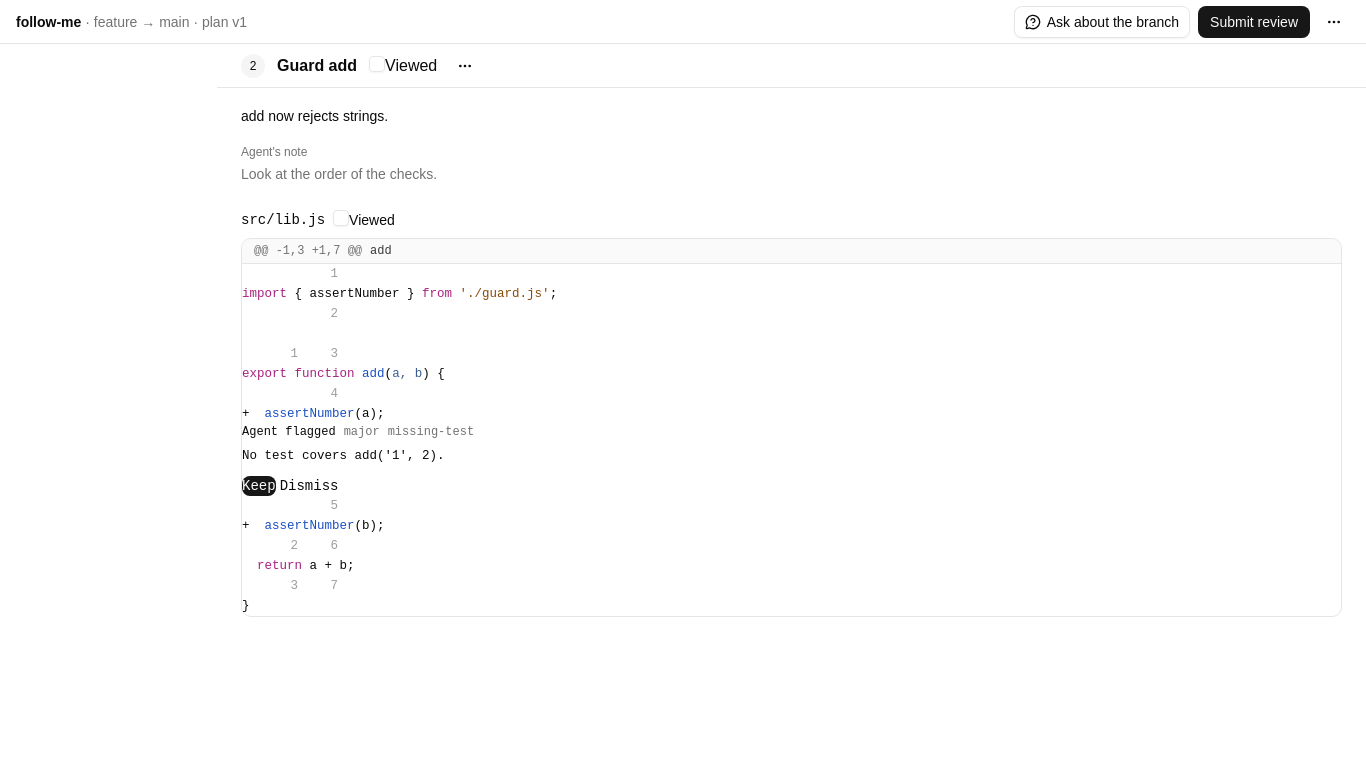
a concern sits under its line; Keep with a new severity records both, Dismiss folds it
(page scrolled)
Click the button with aria-label "Severity major". click: (362, 432)
box: [344,424,380,440]
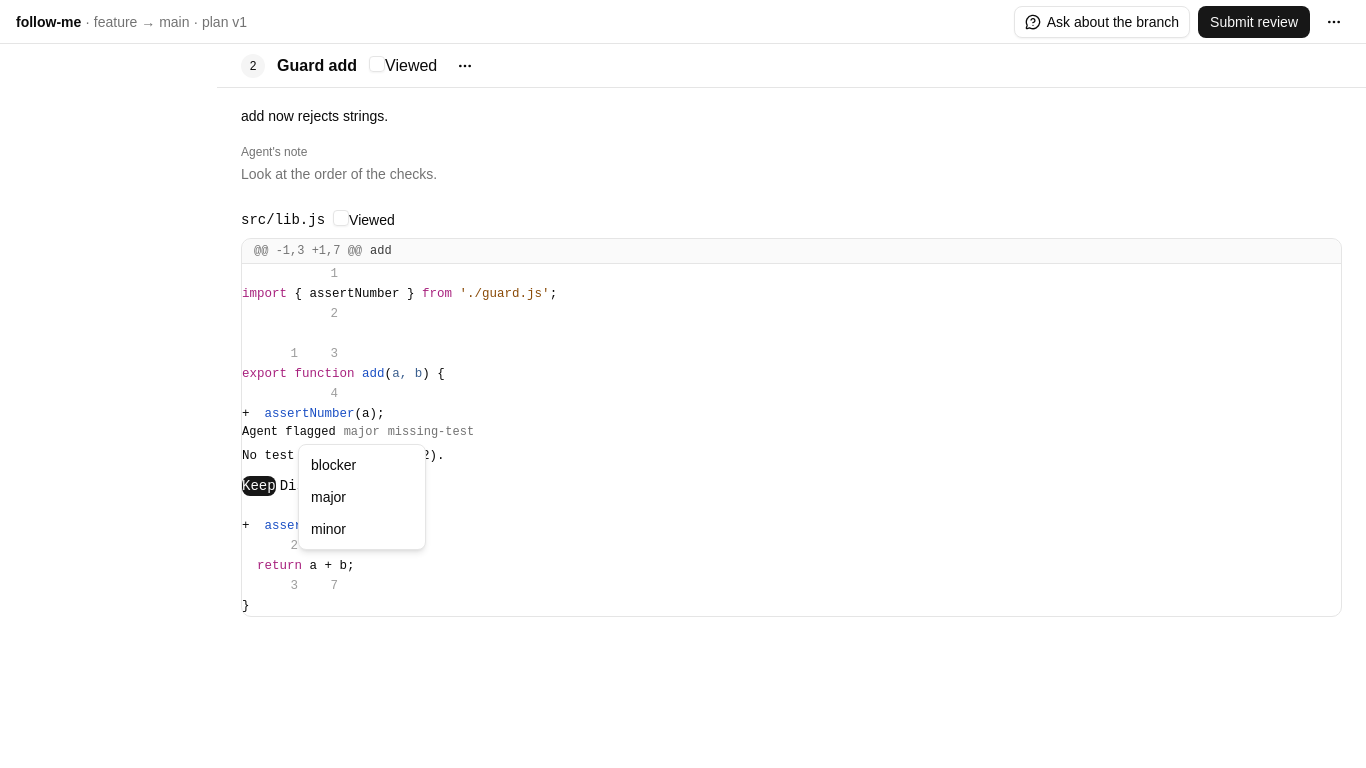
Click the menu item "blocker". click: (334, 465)
box: [311,457,356,473]
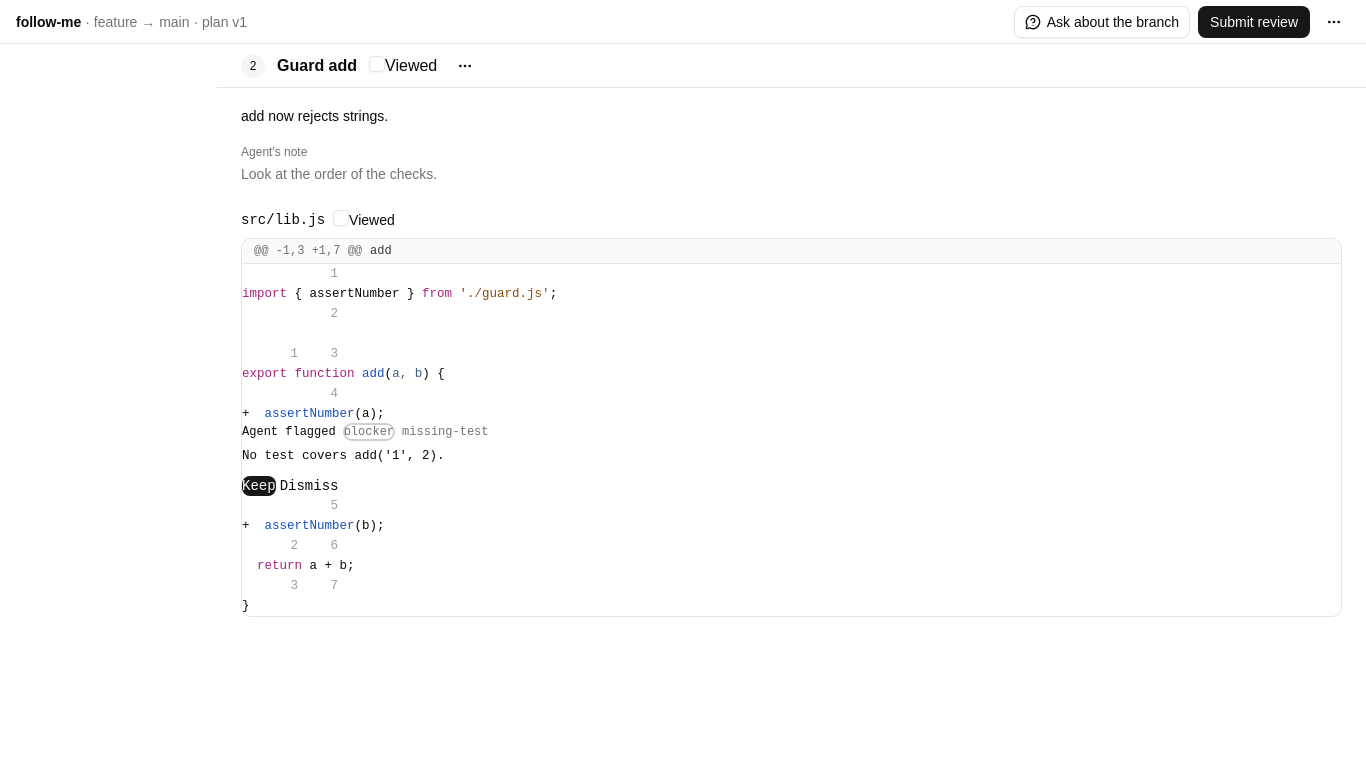
Click the button "Keep". click: (259, 486)
box: [242,476,276,496]
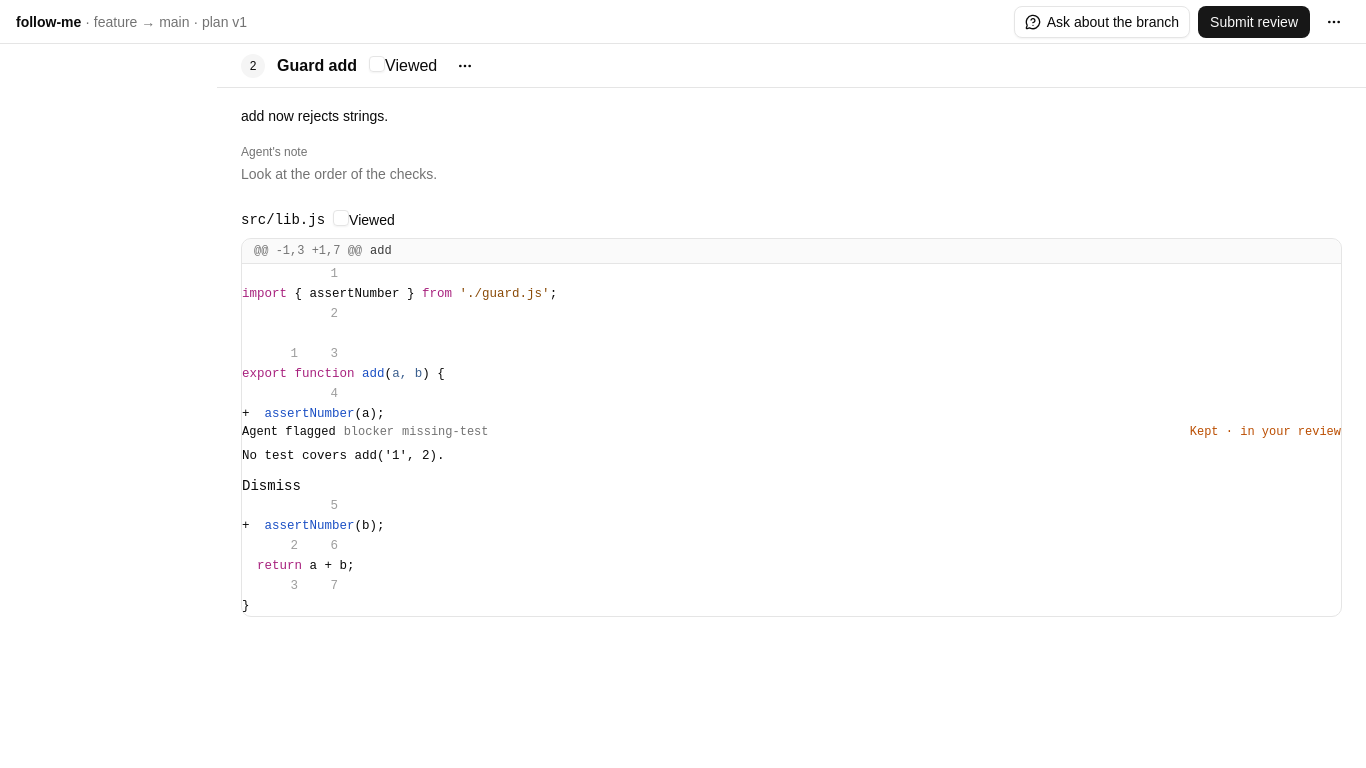
Result: the text "Kept · in your review" is shown at [1190,424,1341,440]
Click the button "Dismiss". click: (271, 486)
box: [242,476,301,496]
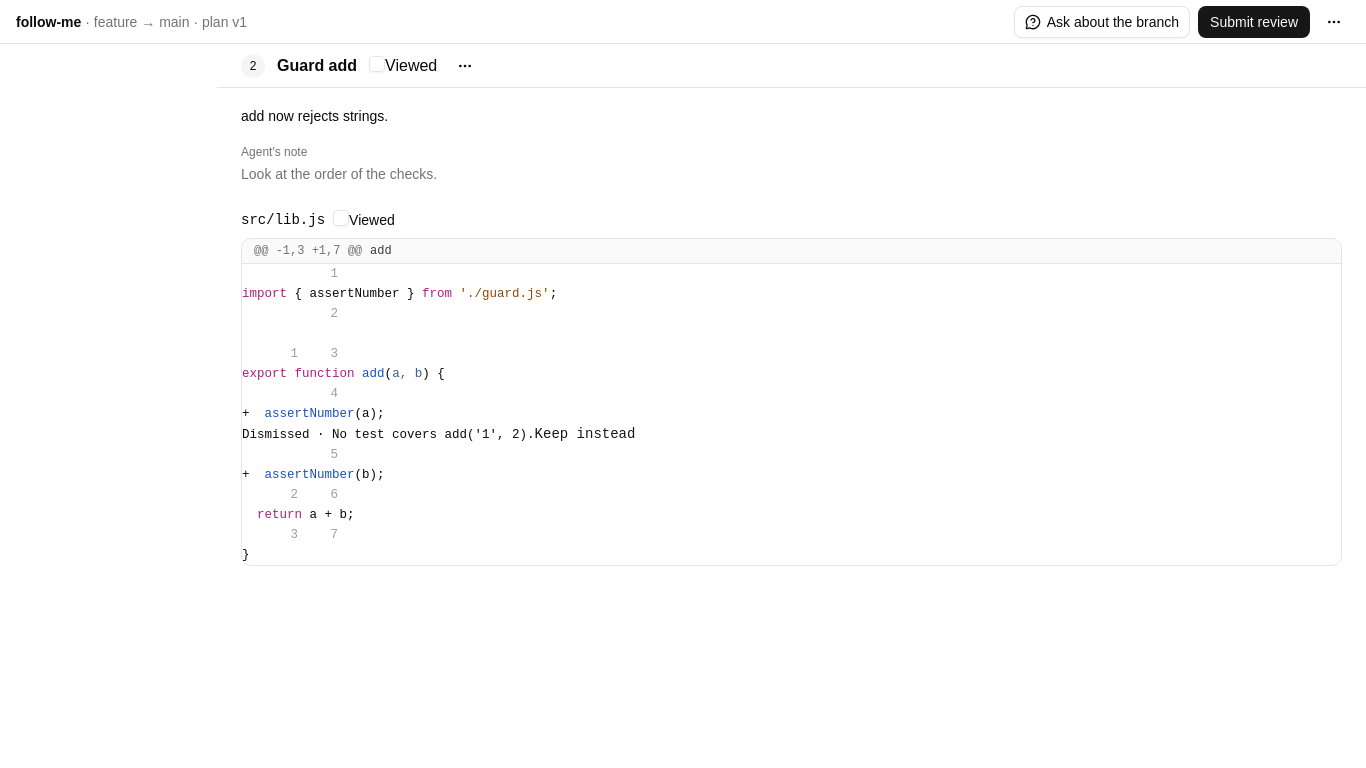
Result: the element named "Dismissed concern" is shown at [242,424,635,444]
